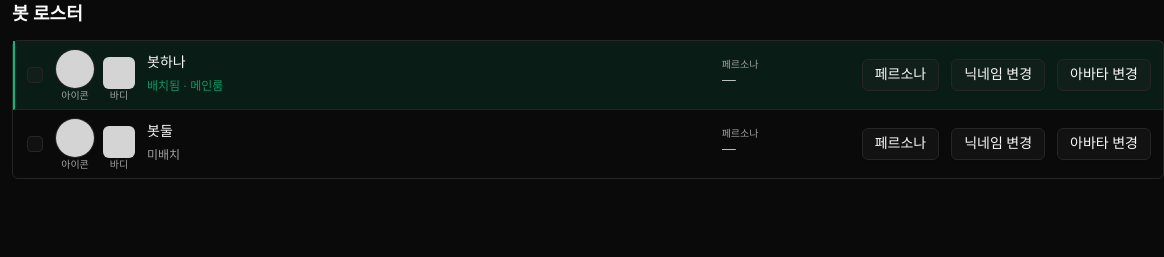
Test: BotRoster › 선택 없으면 일괄 툴바 숨김, 1개 이상 선택 시 노출
expect the text "봇하나" is shown: met, box [147,55,186,70]
expect the button "아바타 일괄 변경" is not shown: met
Click the checkbox named "봇하나 선택".
click(35, 75)  # box [27,67,43,83]
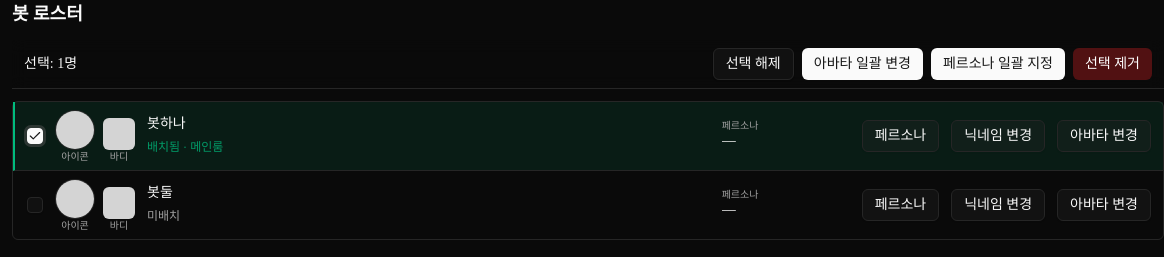
expect the button "아바타 일괄 변경" is shown: met, box [802,48,923,80]
expect the text "선택: 1명" is shown: met, box [24,54,77,74]
